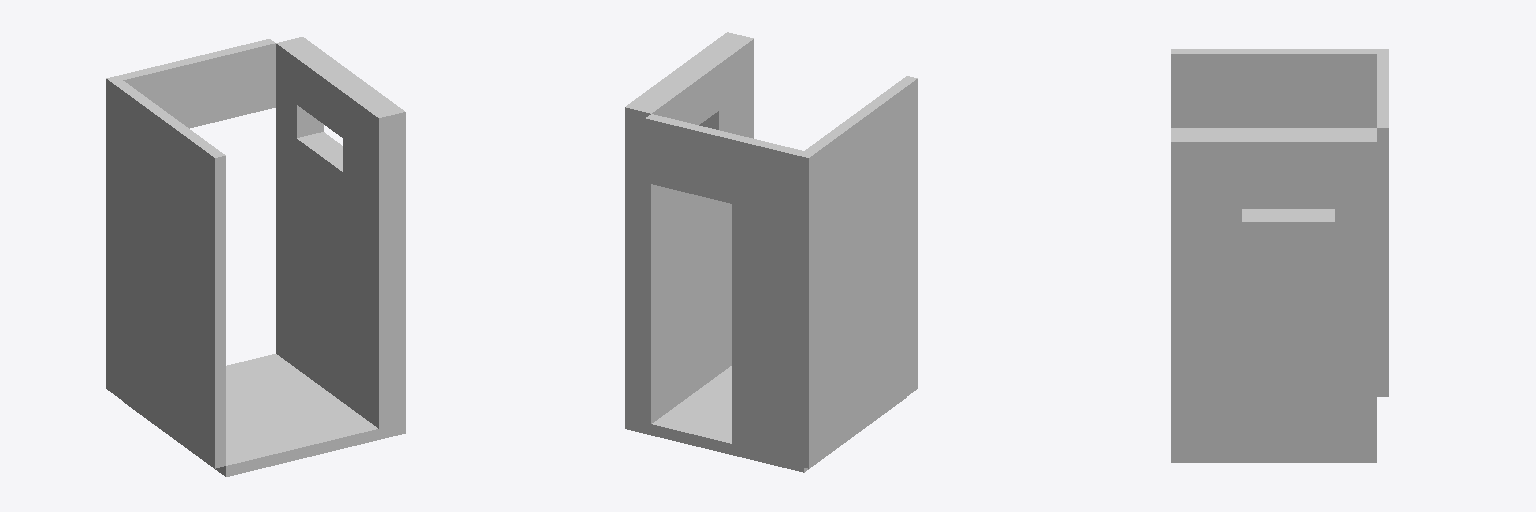
Rendered from Resources_Env_RoomTest_02.obj.
3 views of the same model, side by side, from view 1: azimuth 30°, elevation 25°; view 2: azimuth 150°, elevation 25°; view 3: azimuth 270°, elevation 25° (orthographic).
Visible parts, largest first — view 1: Mesh4 Group4 Toilet1 Model, Mesh2 Group2 Toilet1 Model, Mesh1 Group1 Toilet1 Model, Mesh3 Group3 Toilet1 Model; view 2: Mesh2 Group2 Toilet1 Model, Mesh4 Group4 Toilet1 Model, Mesh3 Group3 Toilet1 Model, Mesh1 Group1 Toilet1 Model; view 3: Mesh4 Group4 Toilet1 Model, Mesh2 Group2 Toilet1 Model, Mesh3 Group3 Toilet1 Model, Mesh1 Group1 Toilet1 Model.
Boxes of the visible parts, <box> form: Mesh4 Group4 Toilet1 Model: <box>276,37,405,428</box>; Mesh2 Group2 Toilet1 Model: <box>106,76,225,468</box>; Mesh1 Group1 Toilet1 Model: <box>124,354,405,476</box>; Mesh3 Group3 Toilet1 Model: <box>118,39,275,128</box>; Mesh2 Group2 Toilet1 Model: <box>798,76,917,468</box>; Mesh4 Group4 Toilet1 Model: <box>625,32,753,423</box>; Mesh3 Group3 Toilet1 Model: <box>645,114,803,465</box>; Mesh1 Group1 Toilet1 Model: <box>625,366,906,472</box>; Mesh4 Group4 Toilet1 Model: <box>1171,128,1376,451</box>; Mesh2 Group2 Toilet1 Model: <box>1171,49,1388,208</box>; Mesh3 Group3 Toilet1 Model: <box>1377,54,1388,396</box>; Mesh1 Group1 Toilet1 Model: <box>1171,452,1376,462</box>.
Bounding box in the file's own units: 1.77 × 2.85 × 1.75.